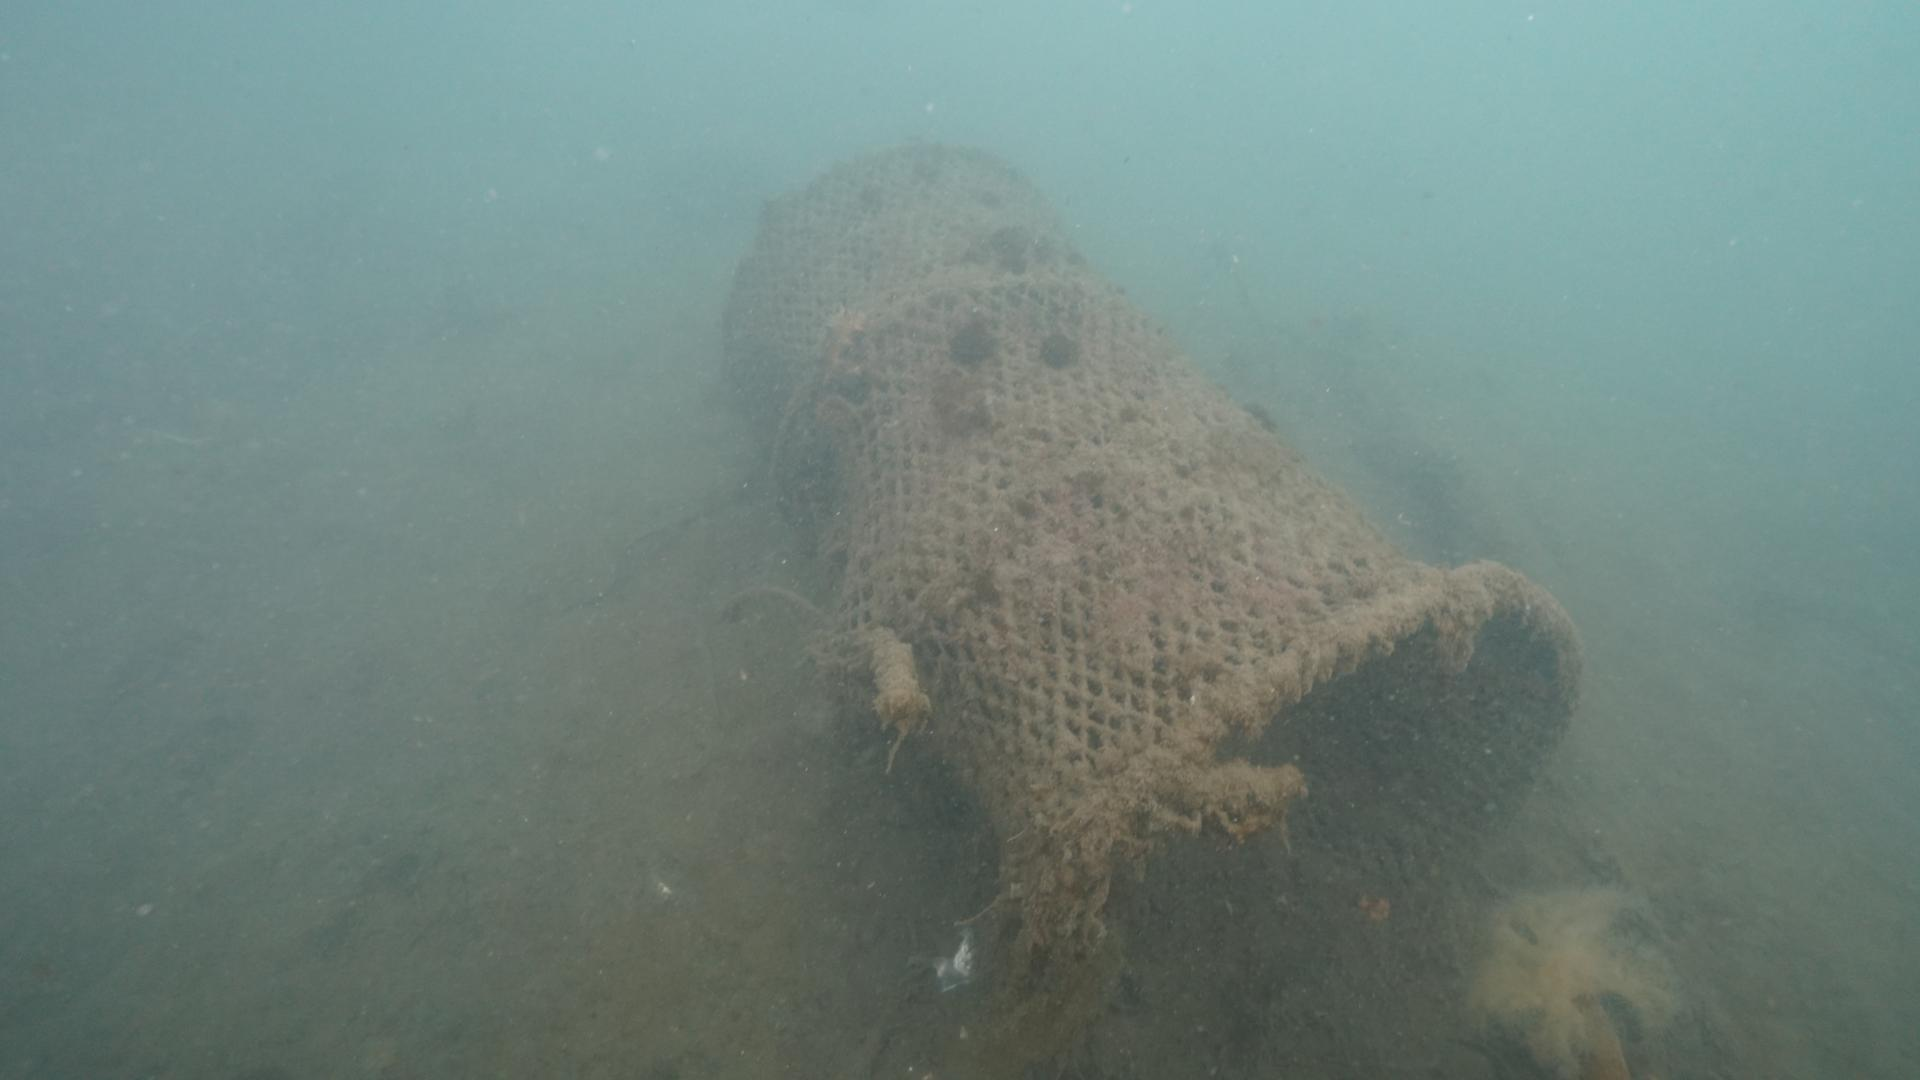spring fish trap: (704, 124, 1581, 1046)
